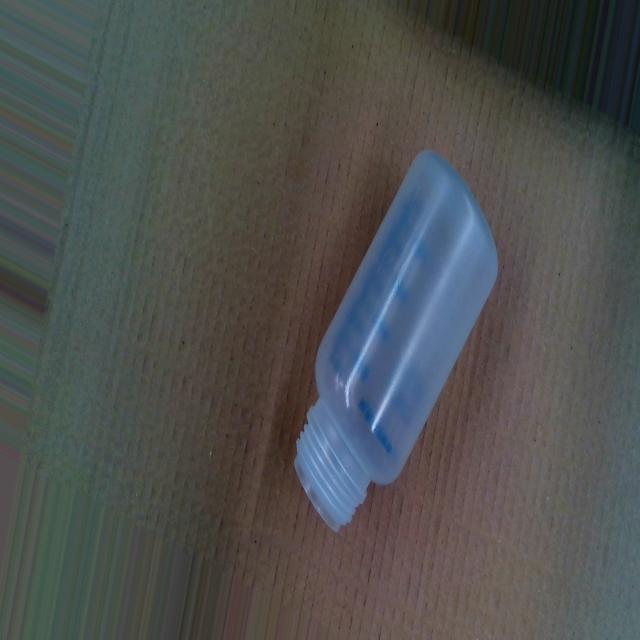bottle: (290, 145, 499, 540)
